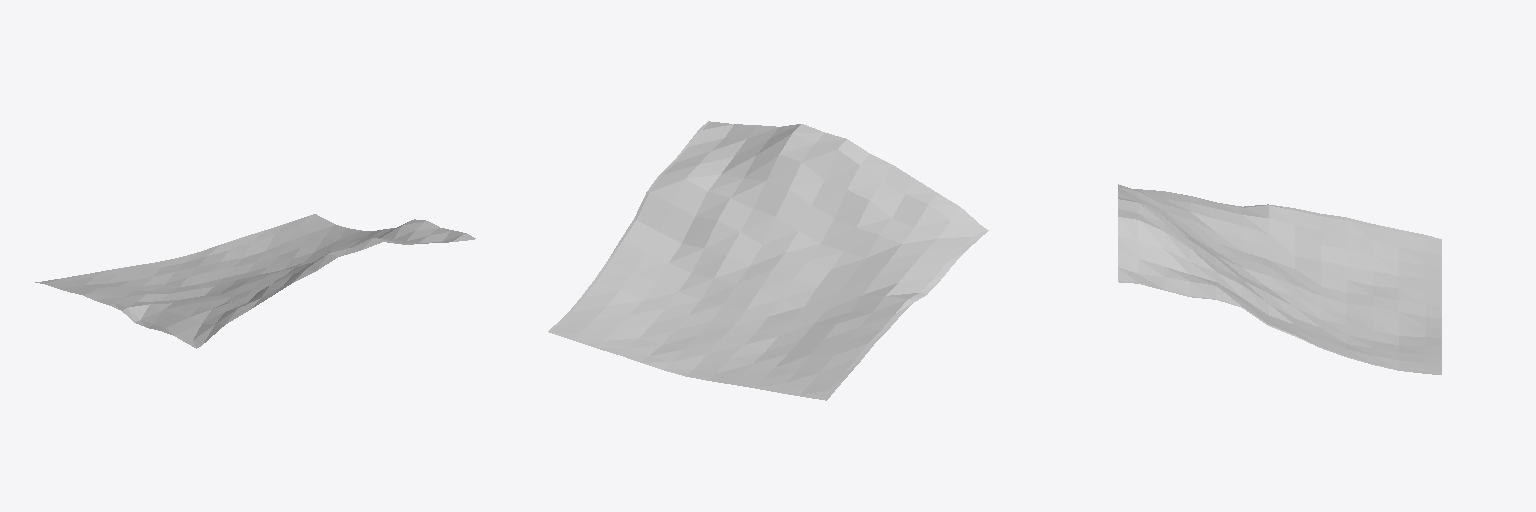
Rendered from Landscape.026.obj.
The picture shows the model from 3 angles: view 1: azimuth 30°, elevation 25°; view 2: azimuth 150°, elevation 25°; view 3: azimuth 270°, elevation 25°; orthographic projection.
Visible parts, largest first — view 1: Landscape.026; view 2: Landscape.026; view 3: Landscape.026.
Boxes of the visible parts, box(x1,y1,x2,y2) form: Landscape.026: box(35, 214, 475, 348); Landscape.026: box(548, 121, 988, 400); Landscape.026: box(1118, 184, 1441, 374).
Size of the model in its own units: 32 by 13.49 by 32.